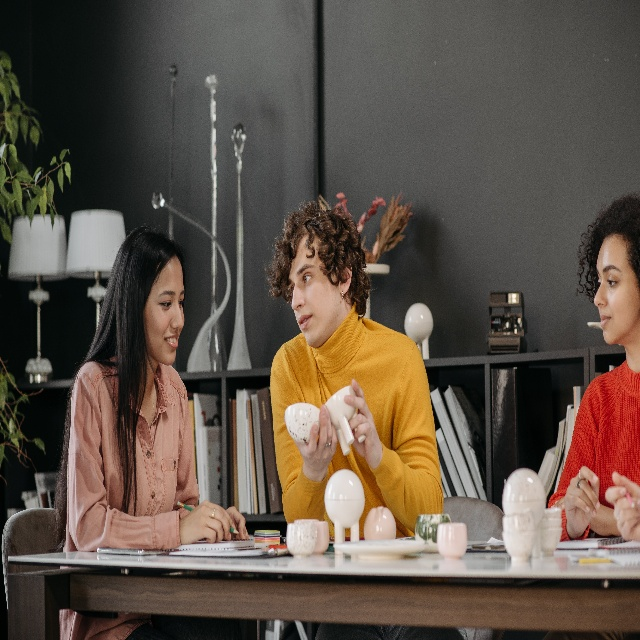Sin_guantes: (342, 375, 385, 470), (291, 403, 339, 471), (563, 464, 601, 537), (179, 499, 237, 544), (605, 472, 640, 544), (226, 504, 250, 541)
